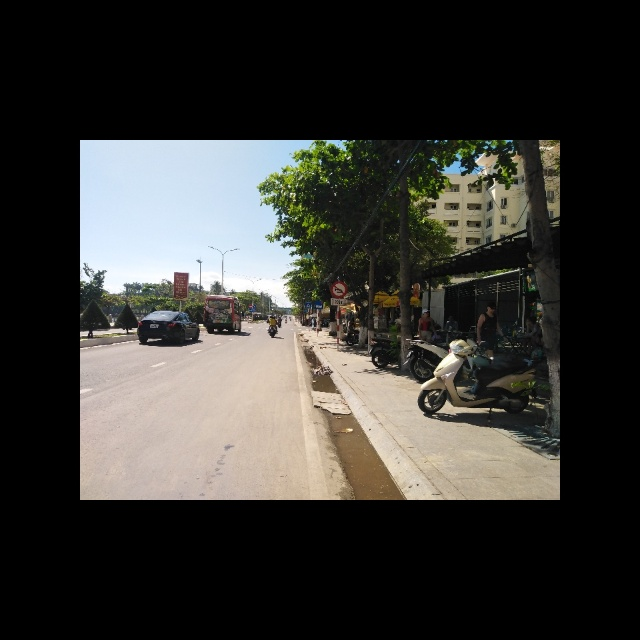Bệnh viện: (315, 301, 323, 309)
Cấm bấm còi: (331, 281, 348, 298)
Đường dành cho người đi bộ: (305, 302, 311, 308)
